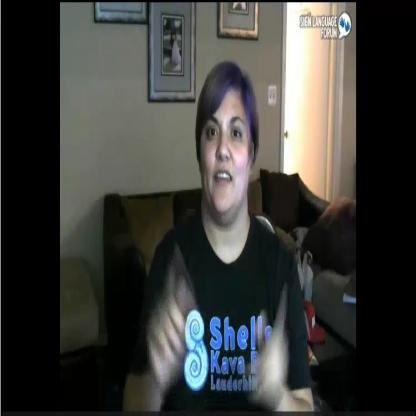NiceToMeetYou: (141, 236, 294, 408)
